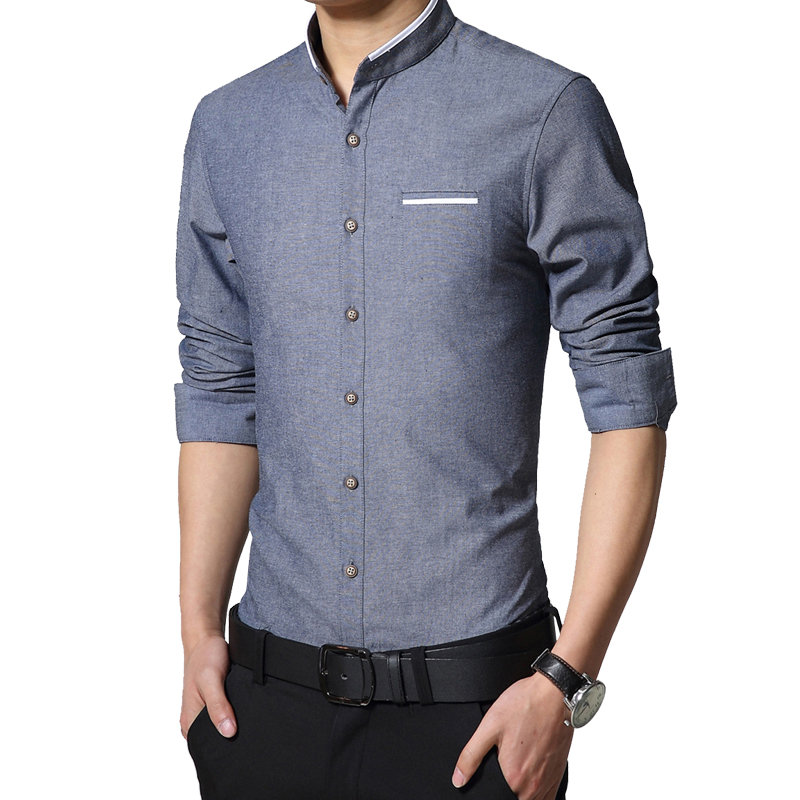Shirt: (158, 15, 715, 650)
